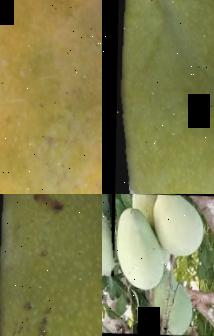PartiallyRipe: (0, 0, 102, 194)
Unripe: (102, 0, 214, 194), (0, 194, 102, 336), (102, 194, 116, 276)
